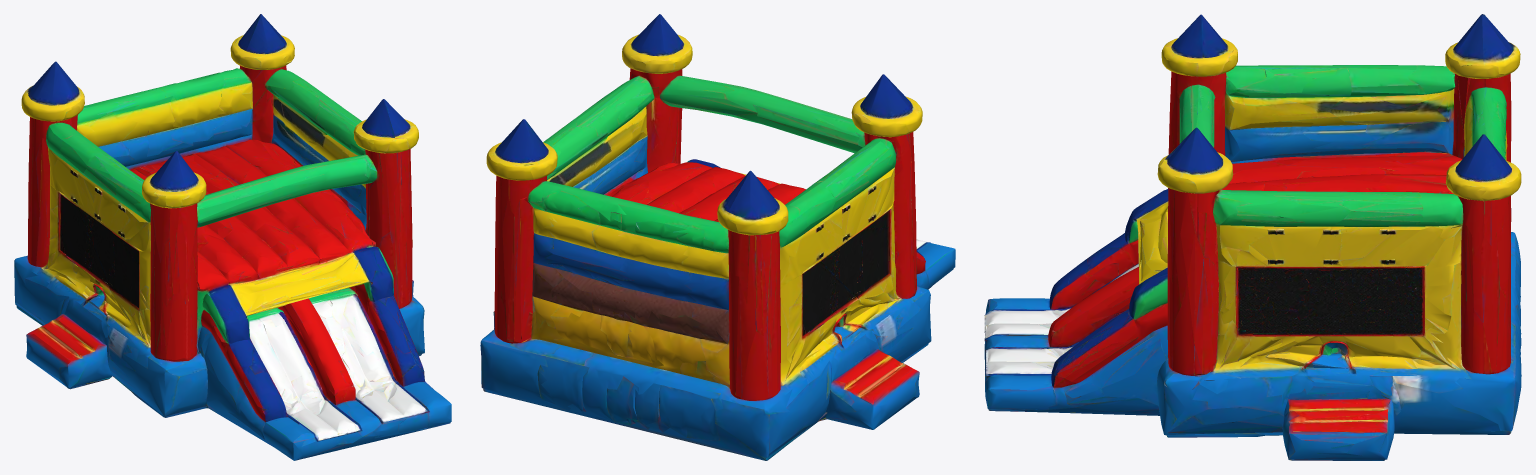
3 renders of one model, left to right at view 1: azimuth 30°, elevation 25°; view 2: azimuth 150°, elevation 25°; view 3: azimuth 270°, elevation 25°, orthographic. The views are drawn at different scales.
Size of the model in its own units: 1.68 by 1.16 by 1.9.
Materials: 1 (1 with a texture image).
